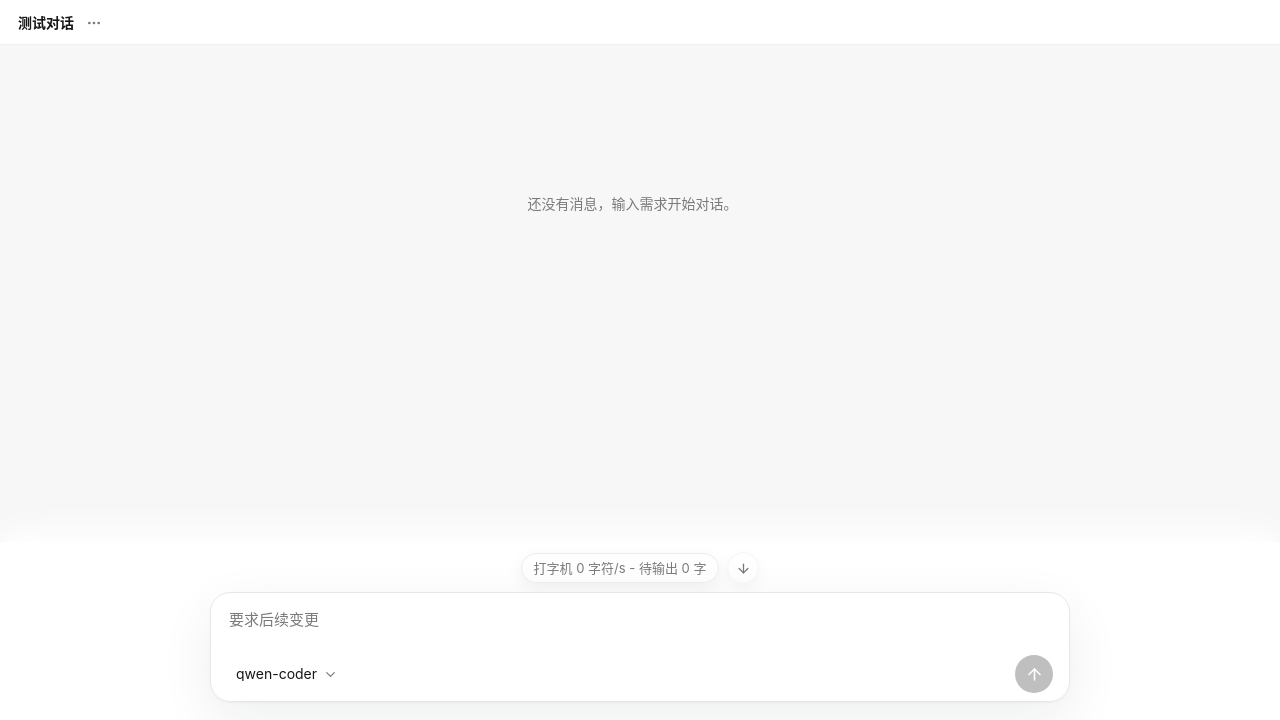
Scenario: ConversationPage › sends the composer text through the bound chat channel
Click the button with aria-label "选择模型": coordinates (286, 674) [227,659,345,689]
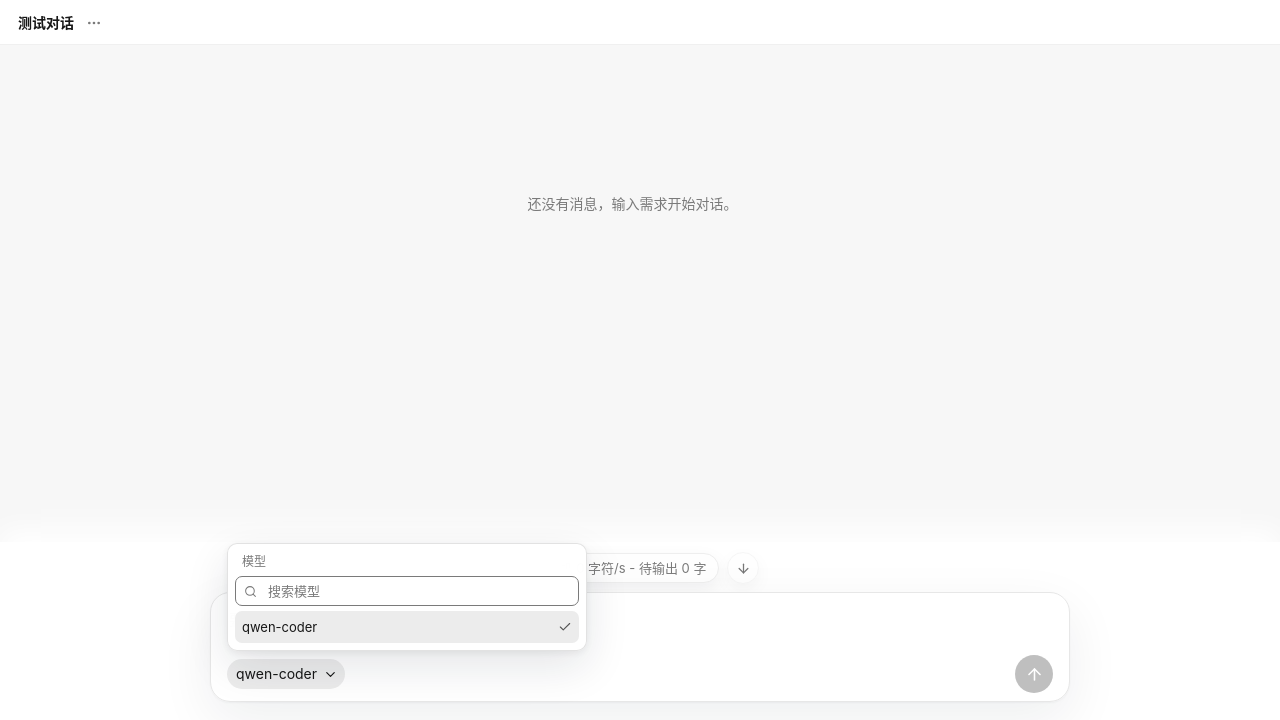
Click the button with aria-label "选择模型": coordinates (286, 674) [227,659,345,689]
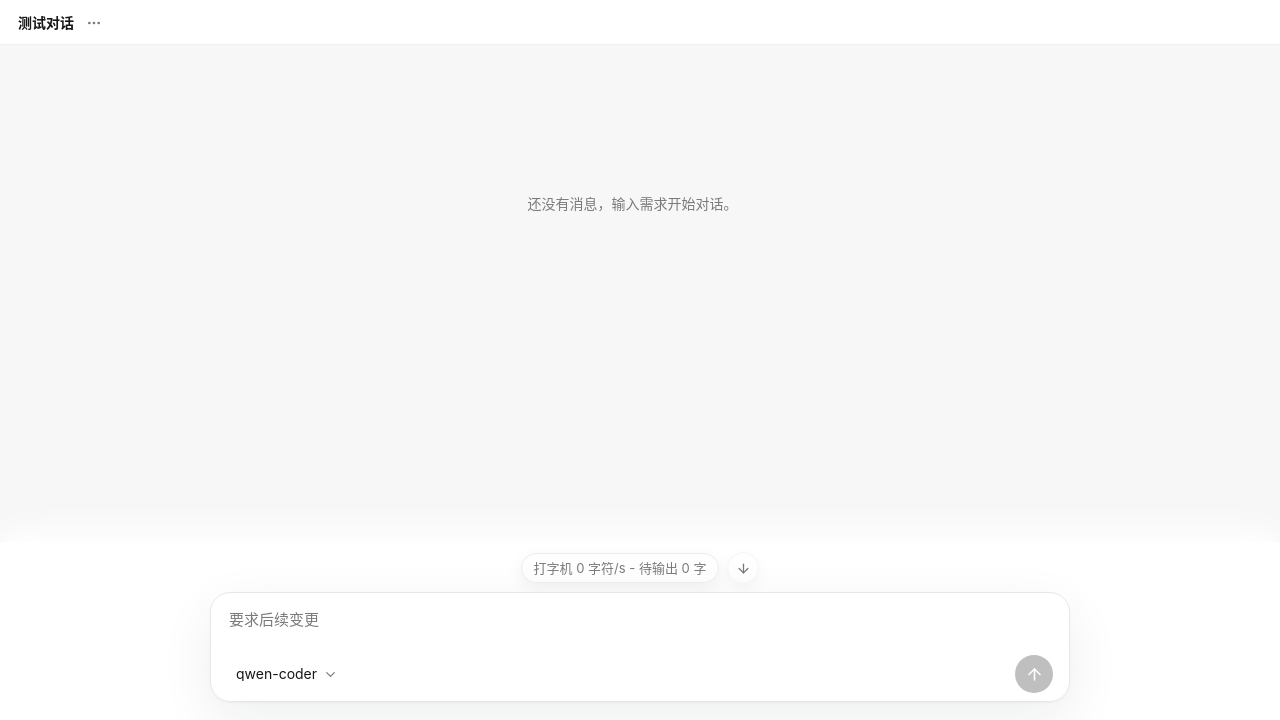
In the text box named "继续输入": coordinates (640, 631) [227,607,1053,655], type "继续修改"
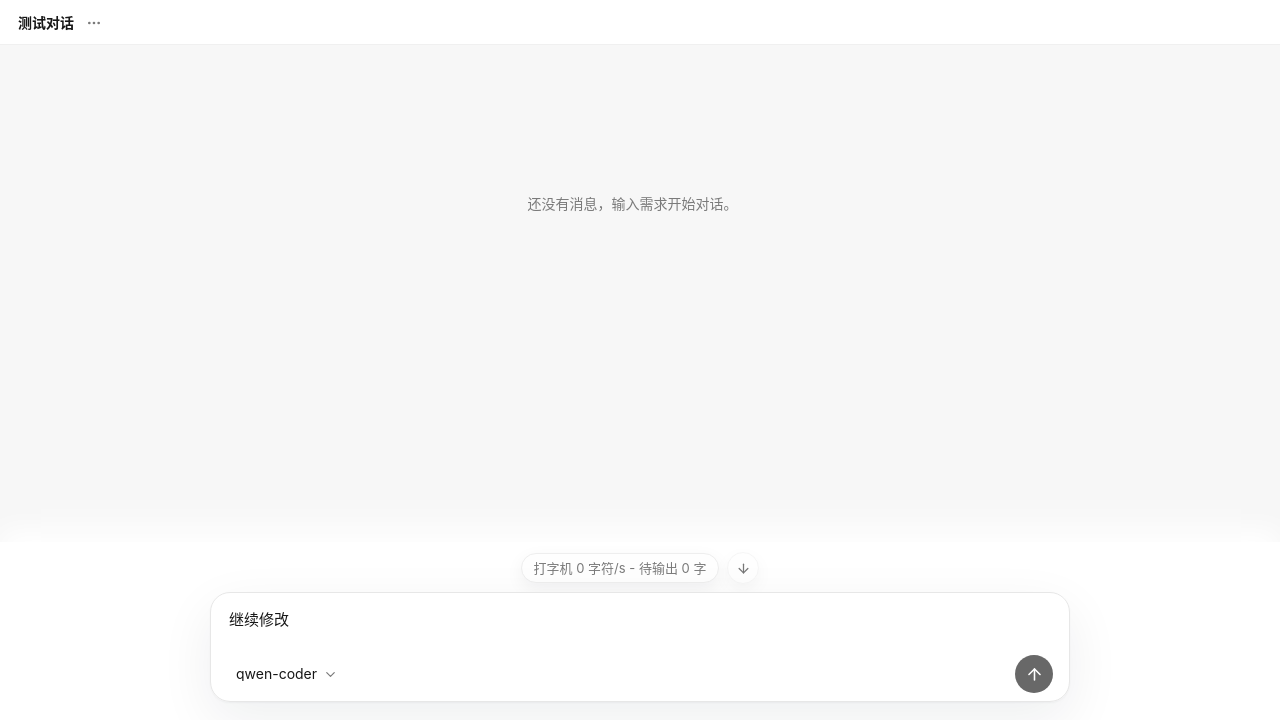
Expected: the button named "发送" is enabled
Click the button named "发送": coordinates (1034, 674) [1015,655,1053,693]
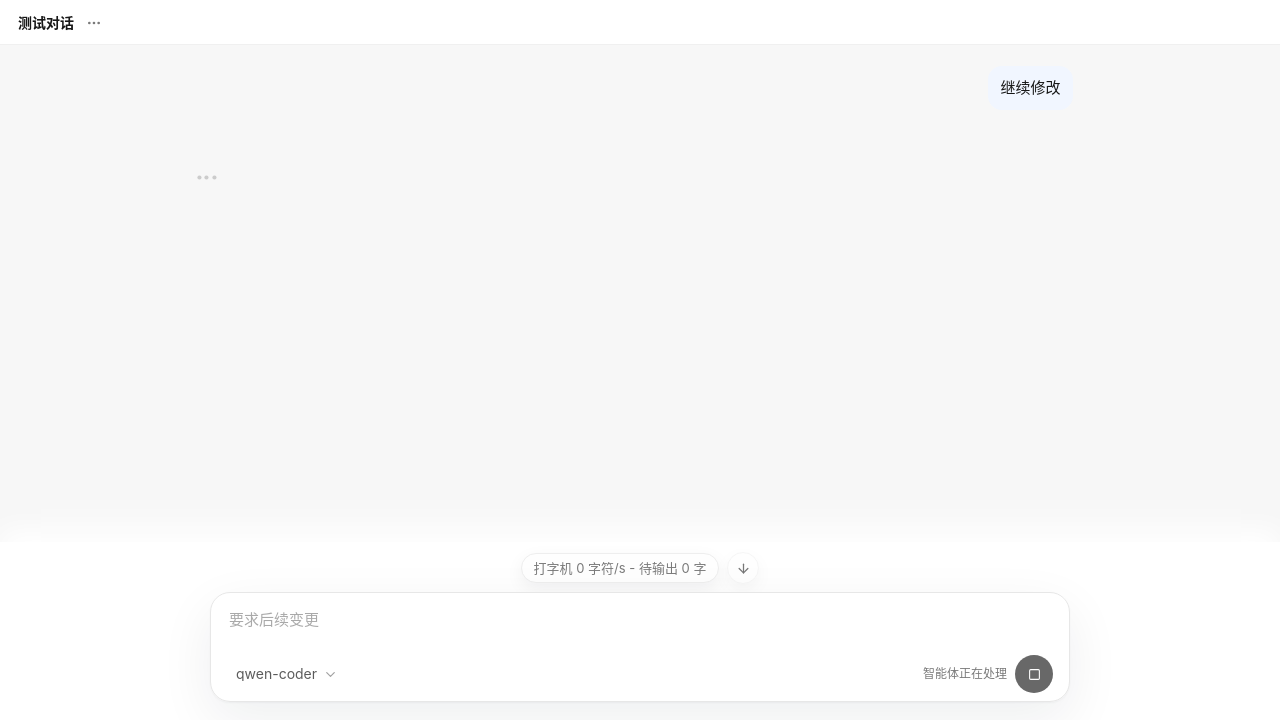
Expected: the button named "停止" is shown, [1015,655,1053,693]
Expected: the element with test id "streaming-cursor" is shown, [197,175,216,179]
